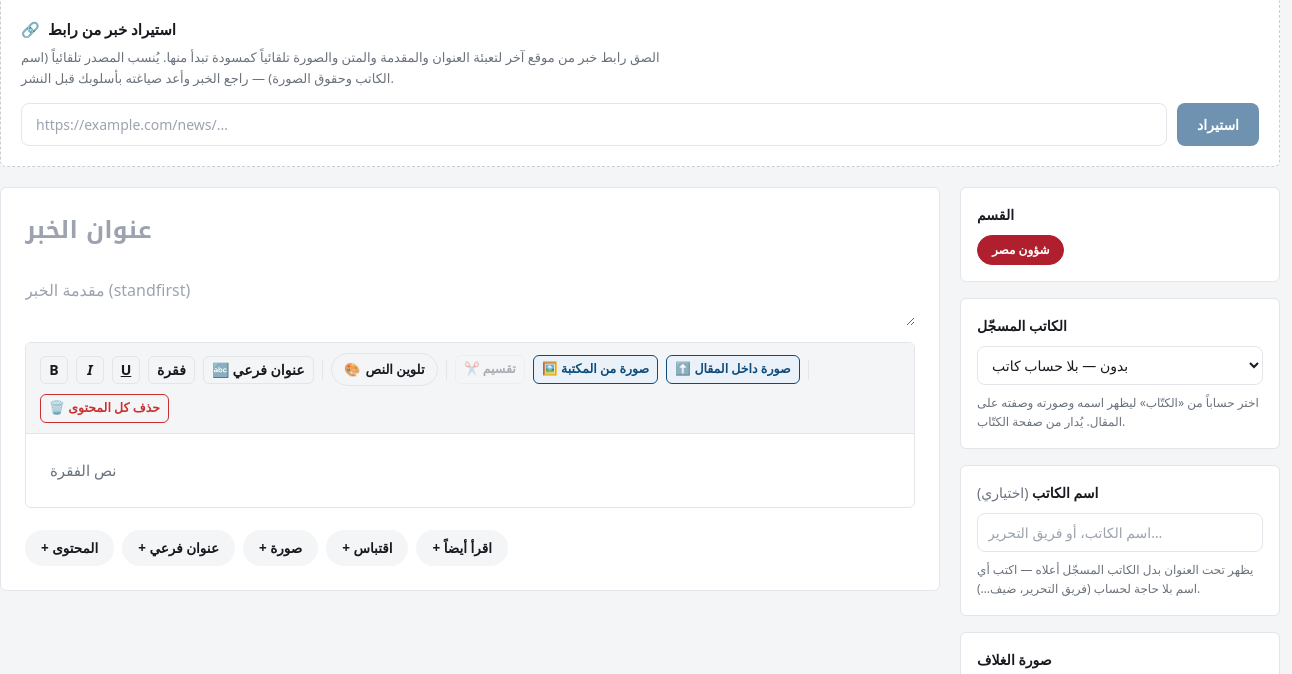
Scenario: ArticleEditorForm scheduling › refuses a moment in the past, with the reason named
Type "خبر مجدول" into the field with placeholder "عنوان الخبر" at [470, 230], box [25, 212, 915, 248]
(page scrolled)
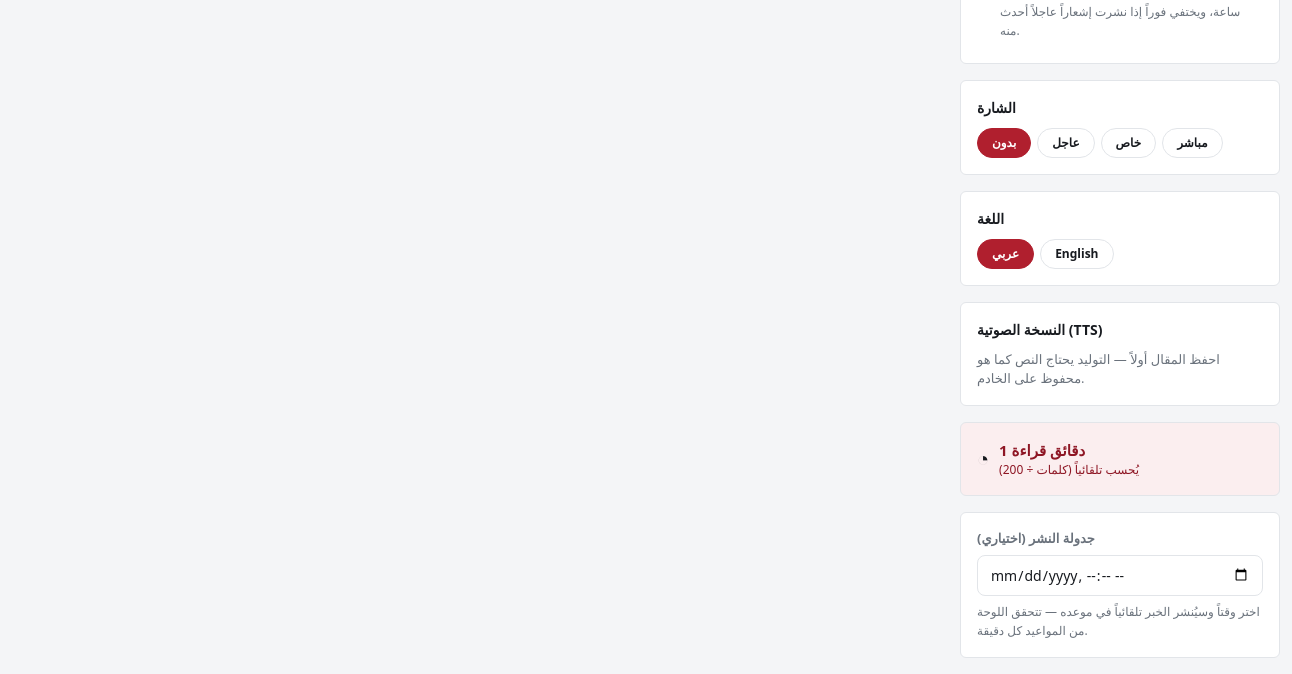
Type "2020-01-01T09:00" into the field labelled "جدولة النشر (اختياري)" at [1120, 575], box [977, 555, 1263, 596]
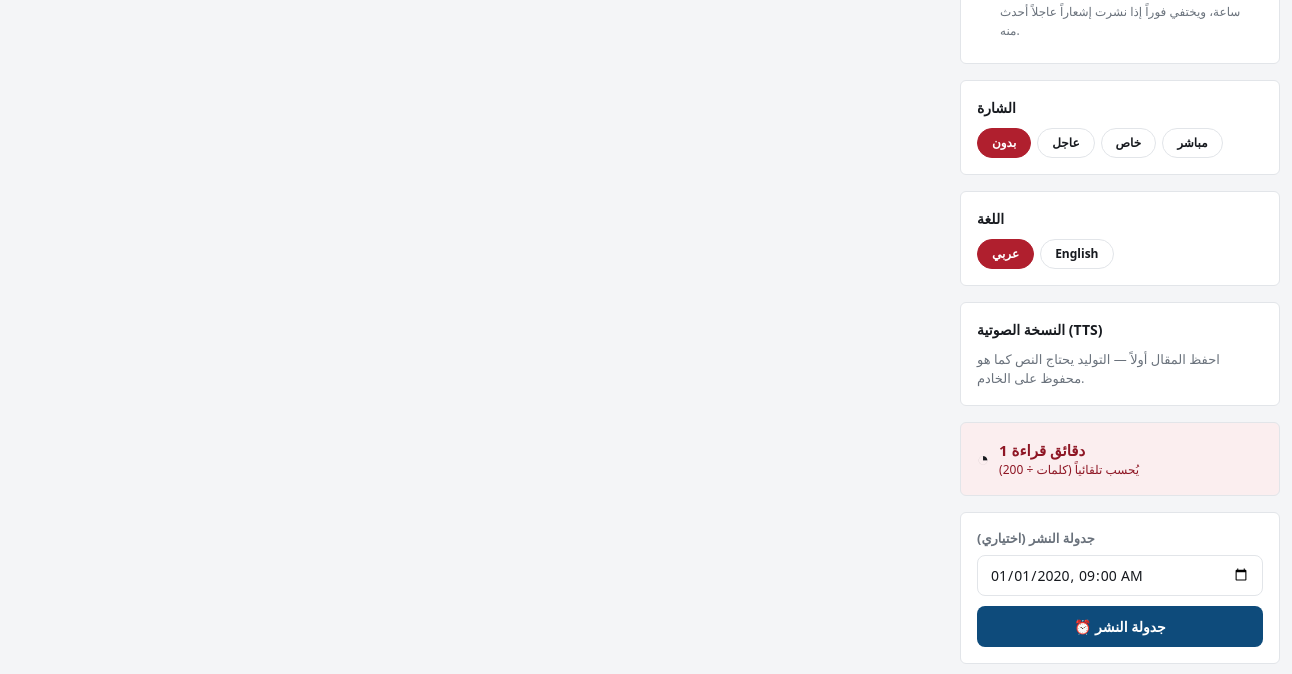
Click the button "⏰ جدولة النشر" at [1120, 626], box [977, 606, 1263, 647]
(page scrolled)
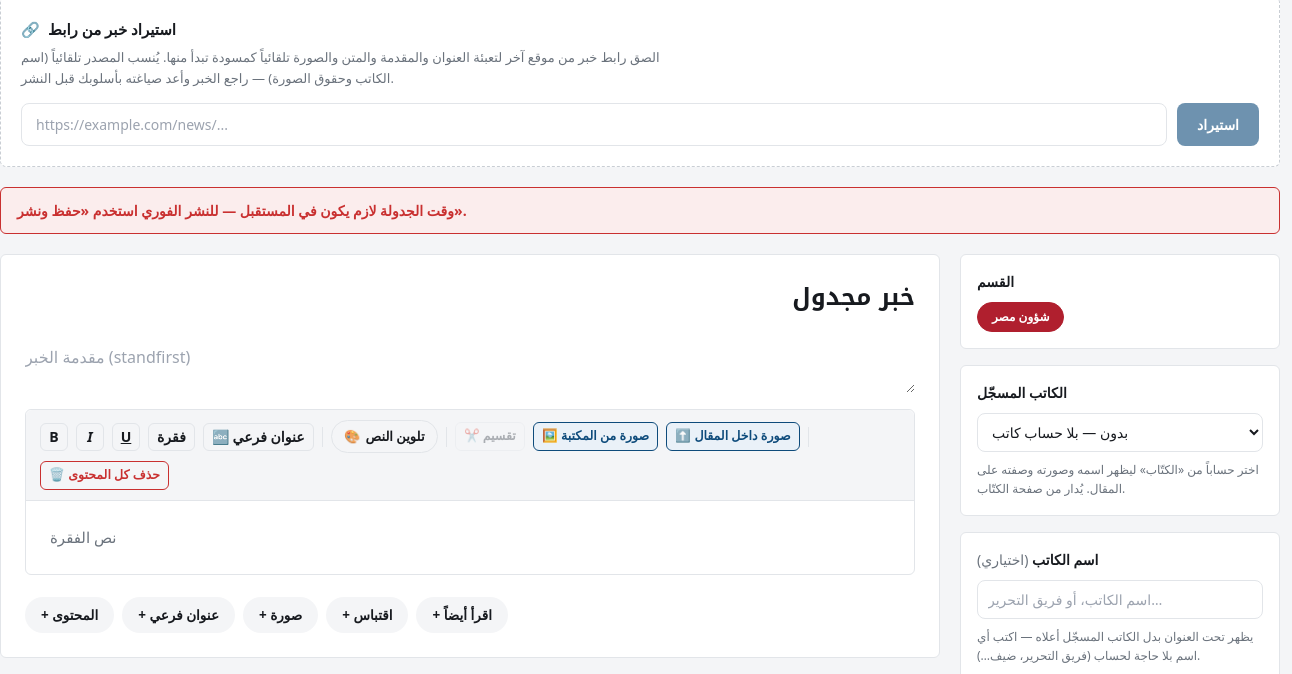
expect the message shows "وقت الجدولة لازم يكون في المستقبل": met, box [17, 201, 467, 220]
